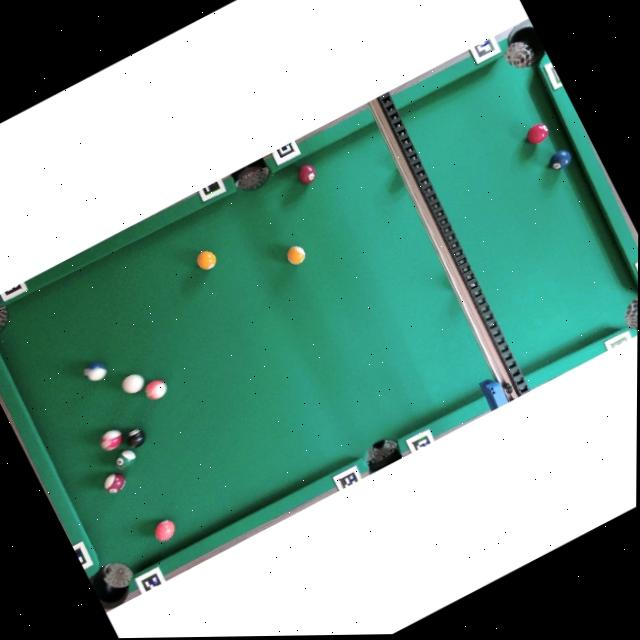cue ball: (119, 370, 148, 398)
other: (150, 516, 179, 545), (97, 426, 127, 454), (523, 120, 552, 148), (546, 146, 575, 174), (101, 470, 130, 497), (82, 358, 110, 385), (142, 376, 170, 403), (193, 247, 220, 274), (122, 424, 149, 451), (295, 161, 320, 187), (113, 446, 140, 470), (284, 243, 308, 267)
